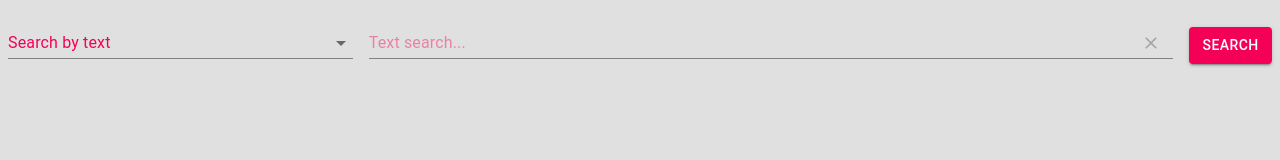
Test: Test SearchFiled render › should change to textField to select
Click the button "Search by text". click: [59, 42]
box: [8,33,110,52]
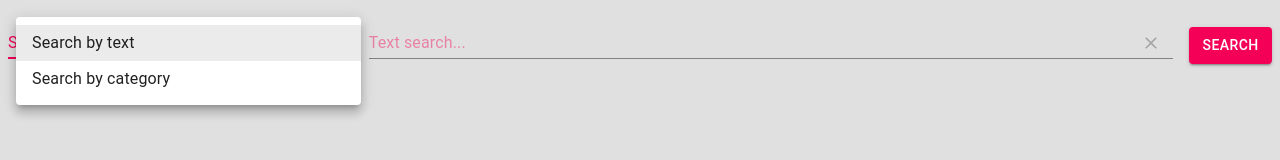
Click the option "Search by category". click: [101, 78]
box: [32,69,170,88]
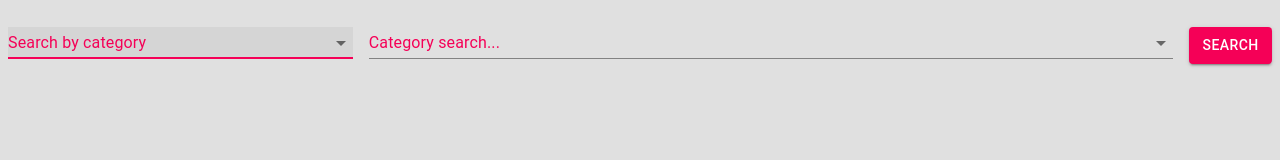
Expected: the field is gone
Expected: the element with test id "selectCategoryField" is shown, [369,27,1173,59]
